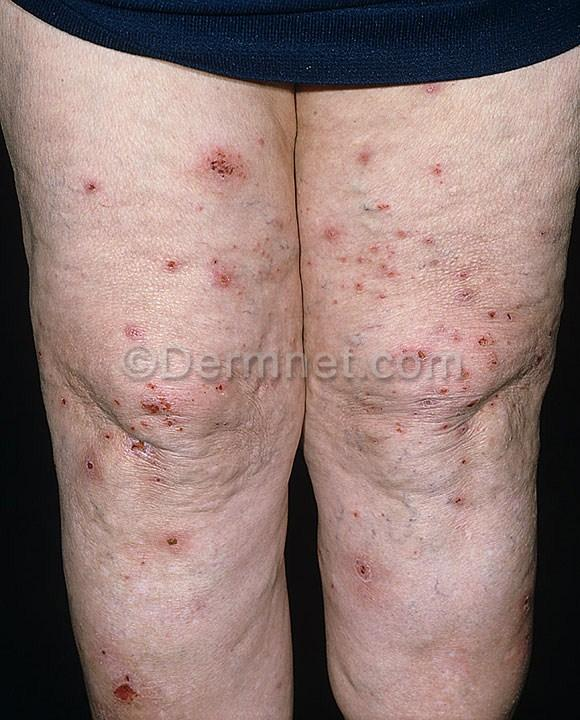Eczema: (114, 374, 191, 456), (322, 498, 404, 573), (333, 540, 401, 612), (238, 211, 294, 290), (362, 226, 421, 299), (391, 311, 440, 396), (97, 298, 173, 351), (141, 522, 205, 584), (194, 132, 249, 203), (419, 222, 480, 281), (418, 385, 487, 436), (501, 207, 564, 262), (444, 443, 509, 495), (71, 422, 127, 482), (100, 542, 156, 602), (200, 250, 255, 308), (100, 661, 159, 710), (135, 456, 189, 509), (307, 257, 361, 310), (342, 327, 396, 380), (239, 644, 290, 700), (459, 336, 515, 387), (338, 124, 392, 176), (246, 299, 304, 347), (483, 386, 537, 436), (193, 373, 246, 422), (349, 382, 402, 431), (425, 140, 469, 199), (69, 161, 116, 211), (181, 173, 221, 231), (249, 347, 294, 397), (495, 285, 544, 330), (309, 206, 349, 260), (77, 632, 135, 669), (362, 182, 408, 227), (354, 428, 402, 469), (451, 291, 497, 333), (42, 377, 84, 422), (157, 240, 197, 287), (408, 540, 451, 582), (414, 72, 453, 116), (507, 577, 537, 629), (528, 332, 564, 375), (238, 120, 275, 160), (73, 263, 110, 297), (36, 339, 61, 367)
